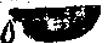Basket: (0, 5, 103, 43)
